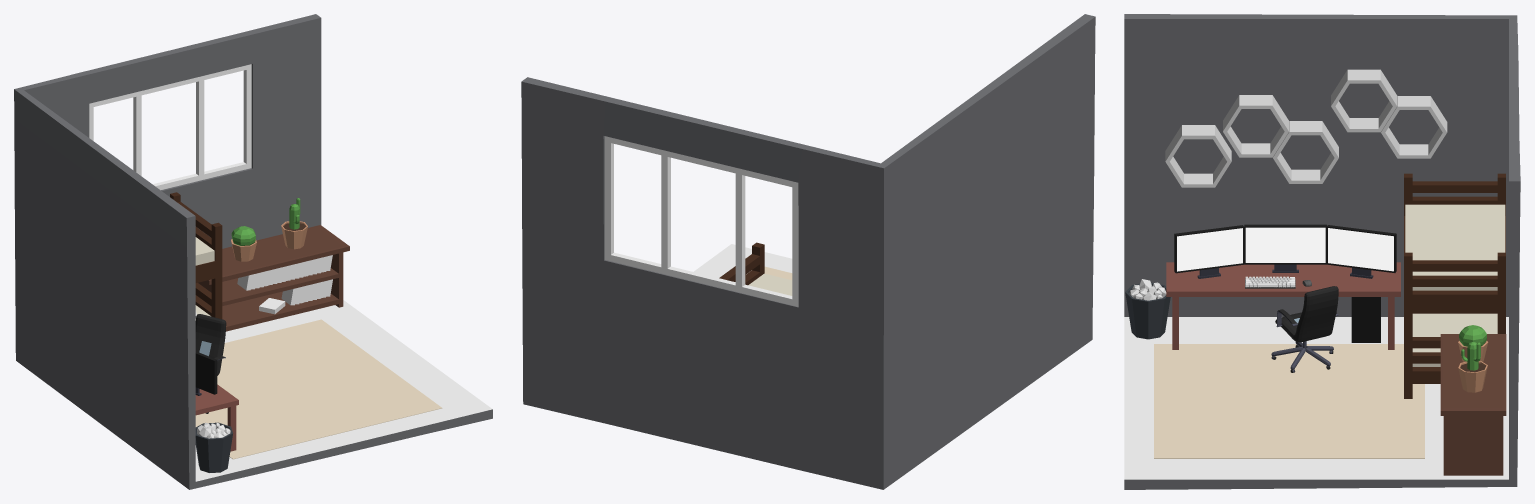
File: des.glb
3 renders of one model, left to right at view 1: azimuth 30°, elevation 25°; view 2: azimuth 150°, elevation 25°; view 3: azimuth 270°, elevation 25°, orthographic. The views are drawn at different scales.
Visible parts, largest first — view 1: Plane, carpet, cupboard, Window, bunker bed, chair, Dustbin, tabel, computer left, Cylinder.006, Cactus; view 2: Plane, Window, bunker bed, mattress top; view 3: Plane, carpet, bunker bed, cupboard, tabel, mattress top, computer, computer left, computer right, chair, Cylinder.004, Cylinder.001 (+8 smaller).
Boxes of the visible parts, x1,y1,x2,y2 form: Plane: (14,14,492,489); carpet: (195,319,442,459); cupboard: (196,225,349,331); Window: (89,64,251,190); bunker bed: (170,192,222,318); chair: (195,314,226,413); Dustbin: (195,422,233,472); tabel: (195,384,238,451); computer left: (195,351,217,395); Cylinder.006: (281,198,307,249); Cactus: (231,226,256,261); Plane: (521,14,1095,489); Window: (604,136,798,306); bunker bed: (719,242,764,285); mattress top: (748,273,792,295); Plane: (1124,14,1520,489); carpet: (1154,344,1424,458); bunker bed: (1404,173,1505,398); cupboard: (1440,334,1506,475); tabel: (1166,262,1400,349); mattress top: (1405,204,1505,290); computer: (1244,224,1326,272); computer left: (1174,225,1244,278); computer right: (1326,225,1396,278); chair: (1271,286,1338,372); Cylinder.004: (1331,69,1397,132); Cylinder.001: (1165,125,1231,187).
Bounding box in the file's own units: 10.3 × 8.85 × 10.3.
